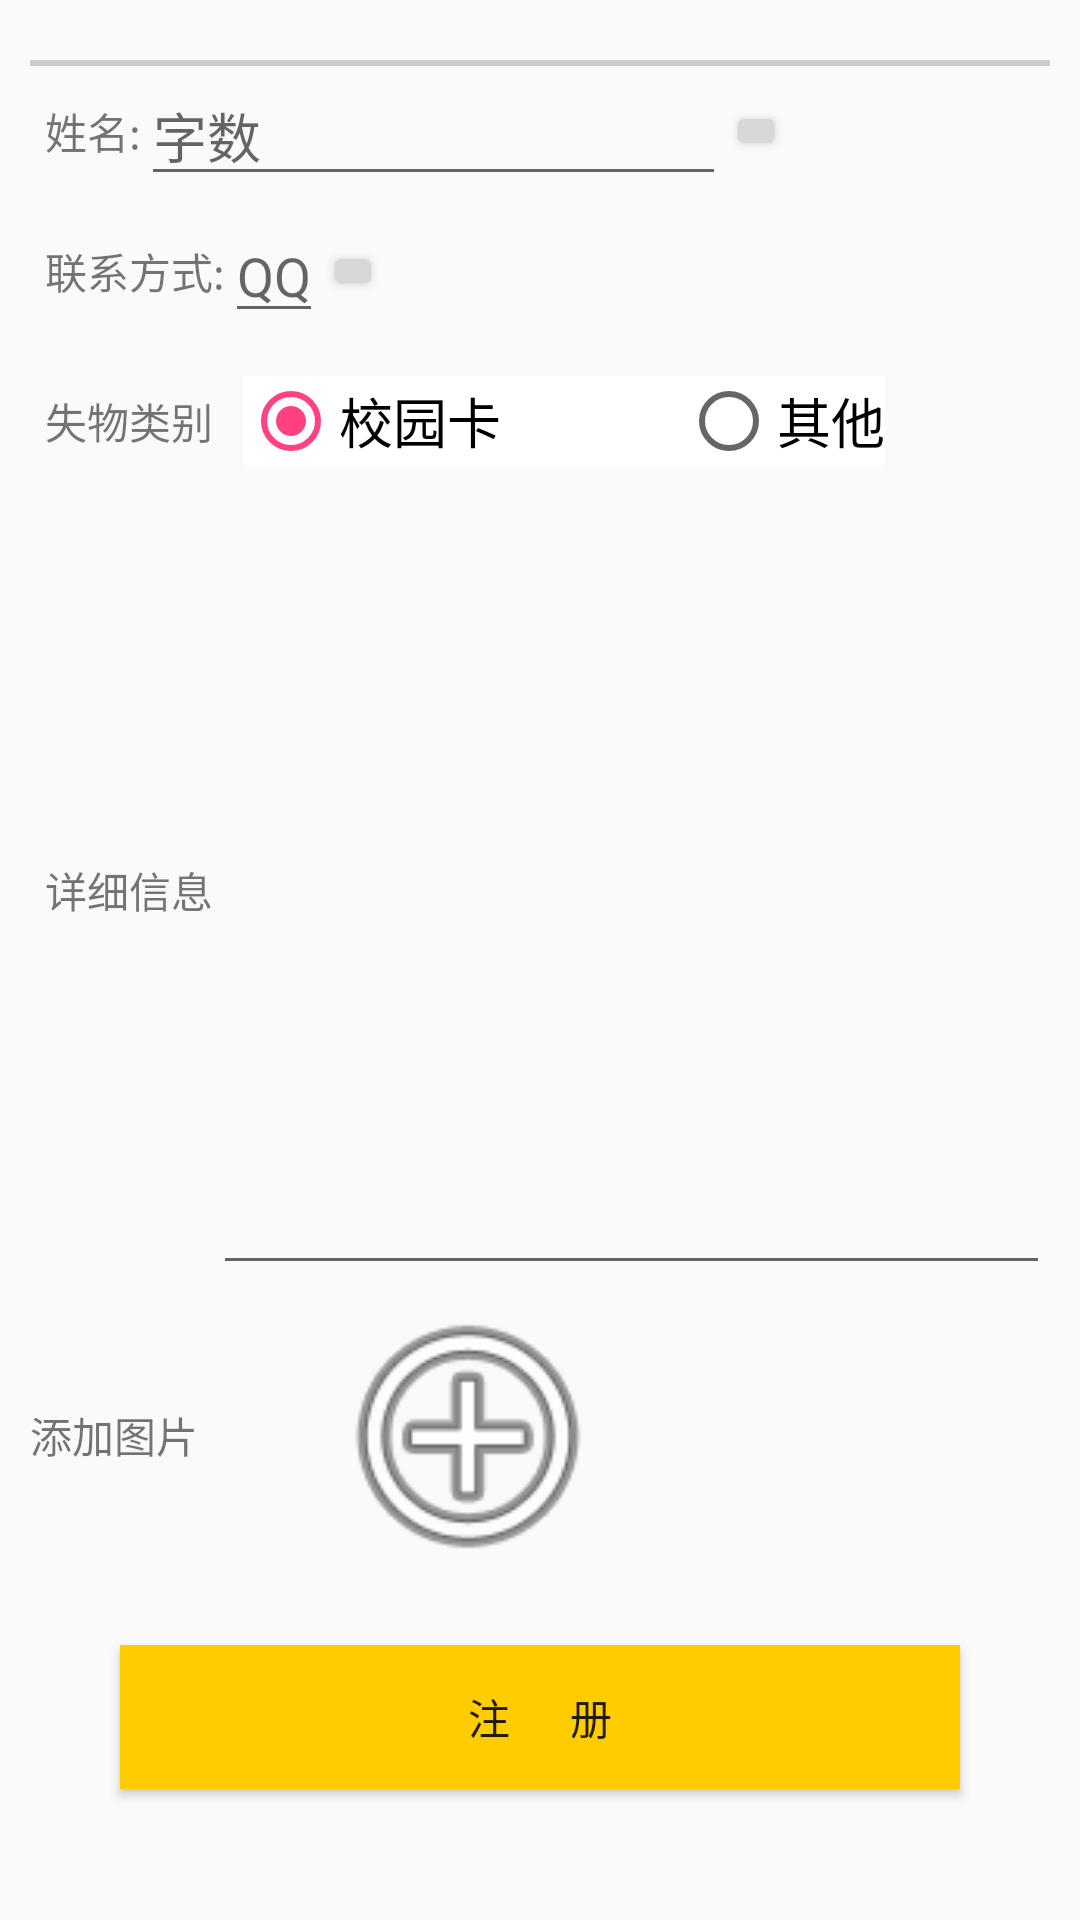

Point at icon controls on the screen. Image size 1080px x 1920px, points as point (x, y).
add: point (468, 1436)
